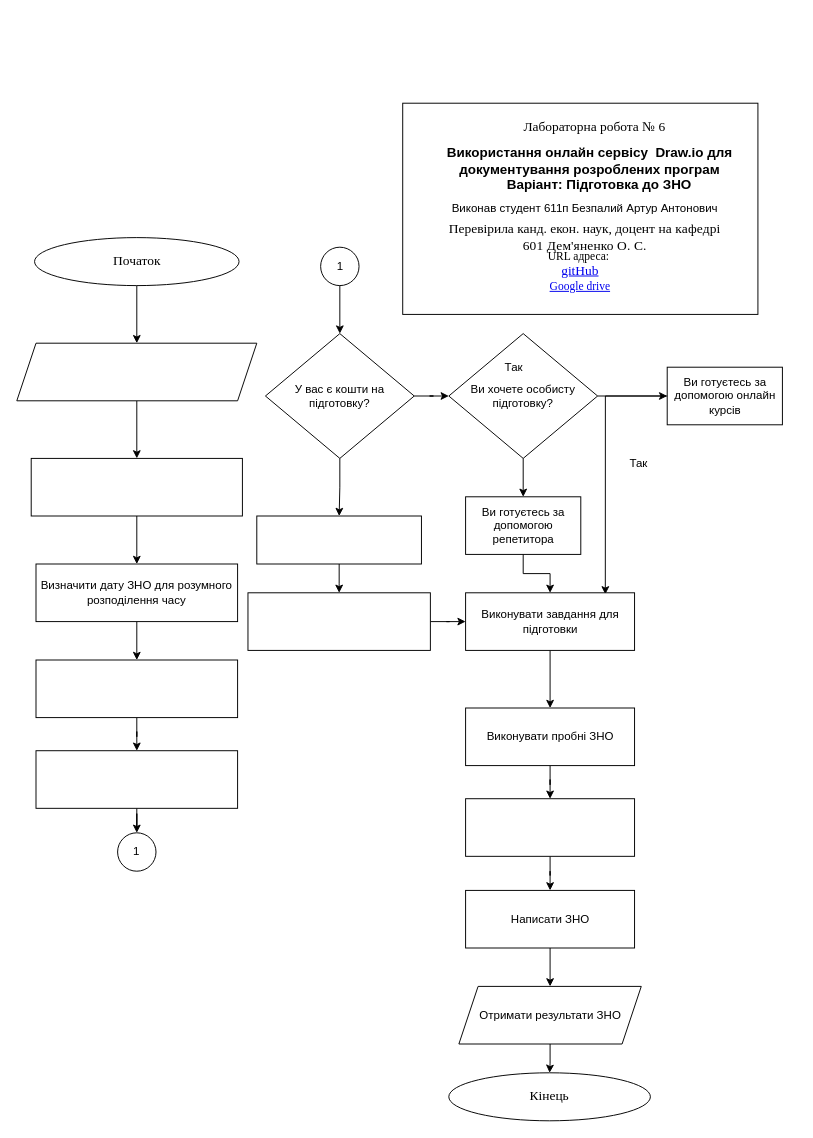
Some shapes in this 813 by 1138 pixel diagram are drawn without their labels. The box of each missing label's shape, as (x1, y1, x2, y2) in pixels:
Ви готуєтесь самостійно: (256, 515, 421, 564)
Визначити час в який ви можете готуватись: (35, 659, 238, 718)
За місяць до ЗНО повторити вивчений матеріал: (465, 798, 635, 856)
Оберіть предмети, які ви збираєтесь складати на ЗНО: (16, 342, 257, 401)
Обрати джерело інформації по якому ви будете здійснювати навчання: (247, 592, 430, 650)
Обрати зручний варіант для підготовки: (35, 750, 238, 808)
Пройти пробні ЗНО для визначення рівня знань по 200 бальній шкалі: (30, 457, 242, 516)
